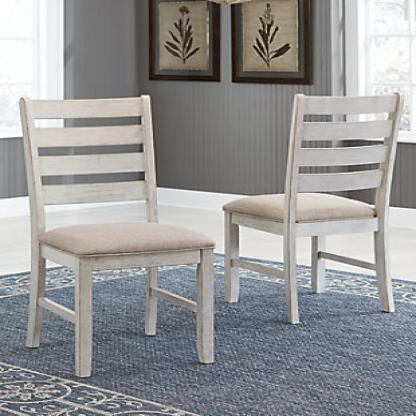chair: (12, 90, 218, 392), (219, 84, 414, 340)
